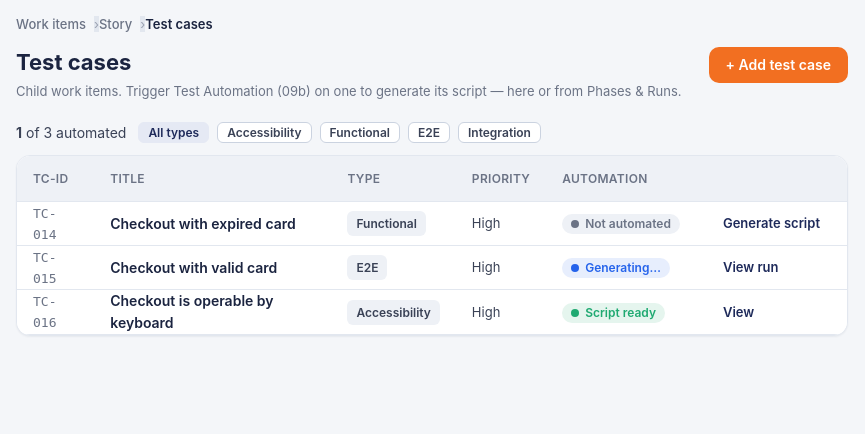
it: G2 — a case says what kind it is › says so when a filter matches nothing, instead of looking like an empty story
Click the button "Integration" at [500, 132], box [458,122,541,143]
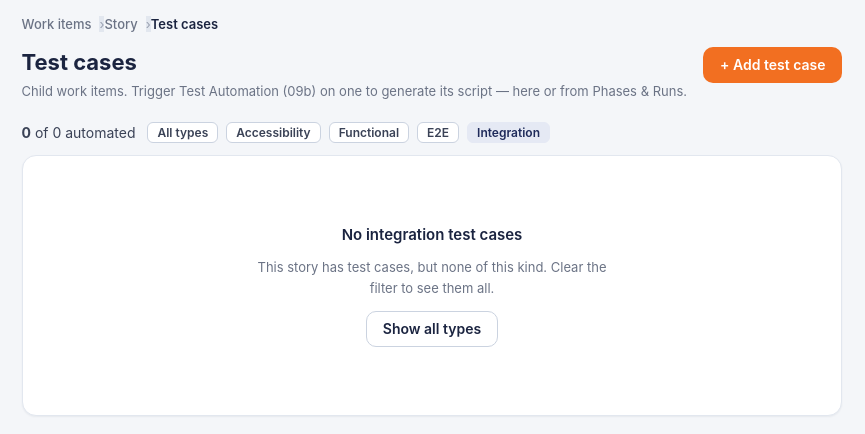
Now the text "No integration test cases" is shown, box [342,224,522,245]
Click the button "Show all types" at [432, 329], box [366,311,498,347]
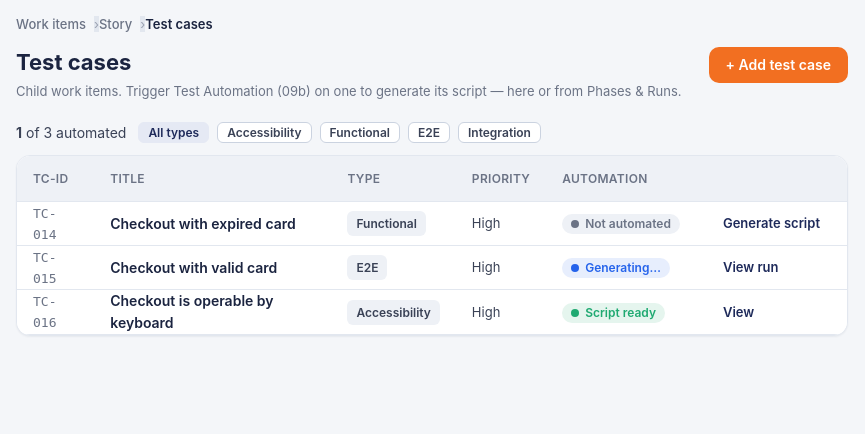
Now the text "Checkout with expired card" is shown, box [110,214,296,232]
